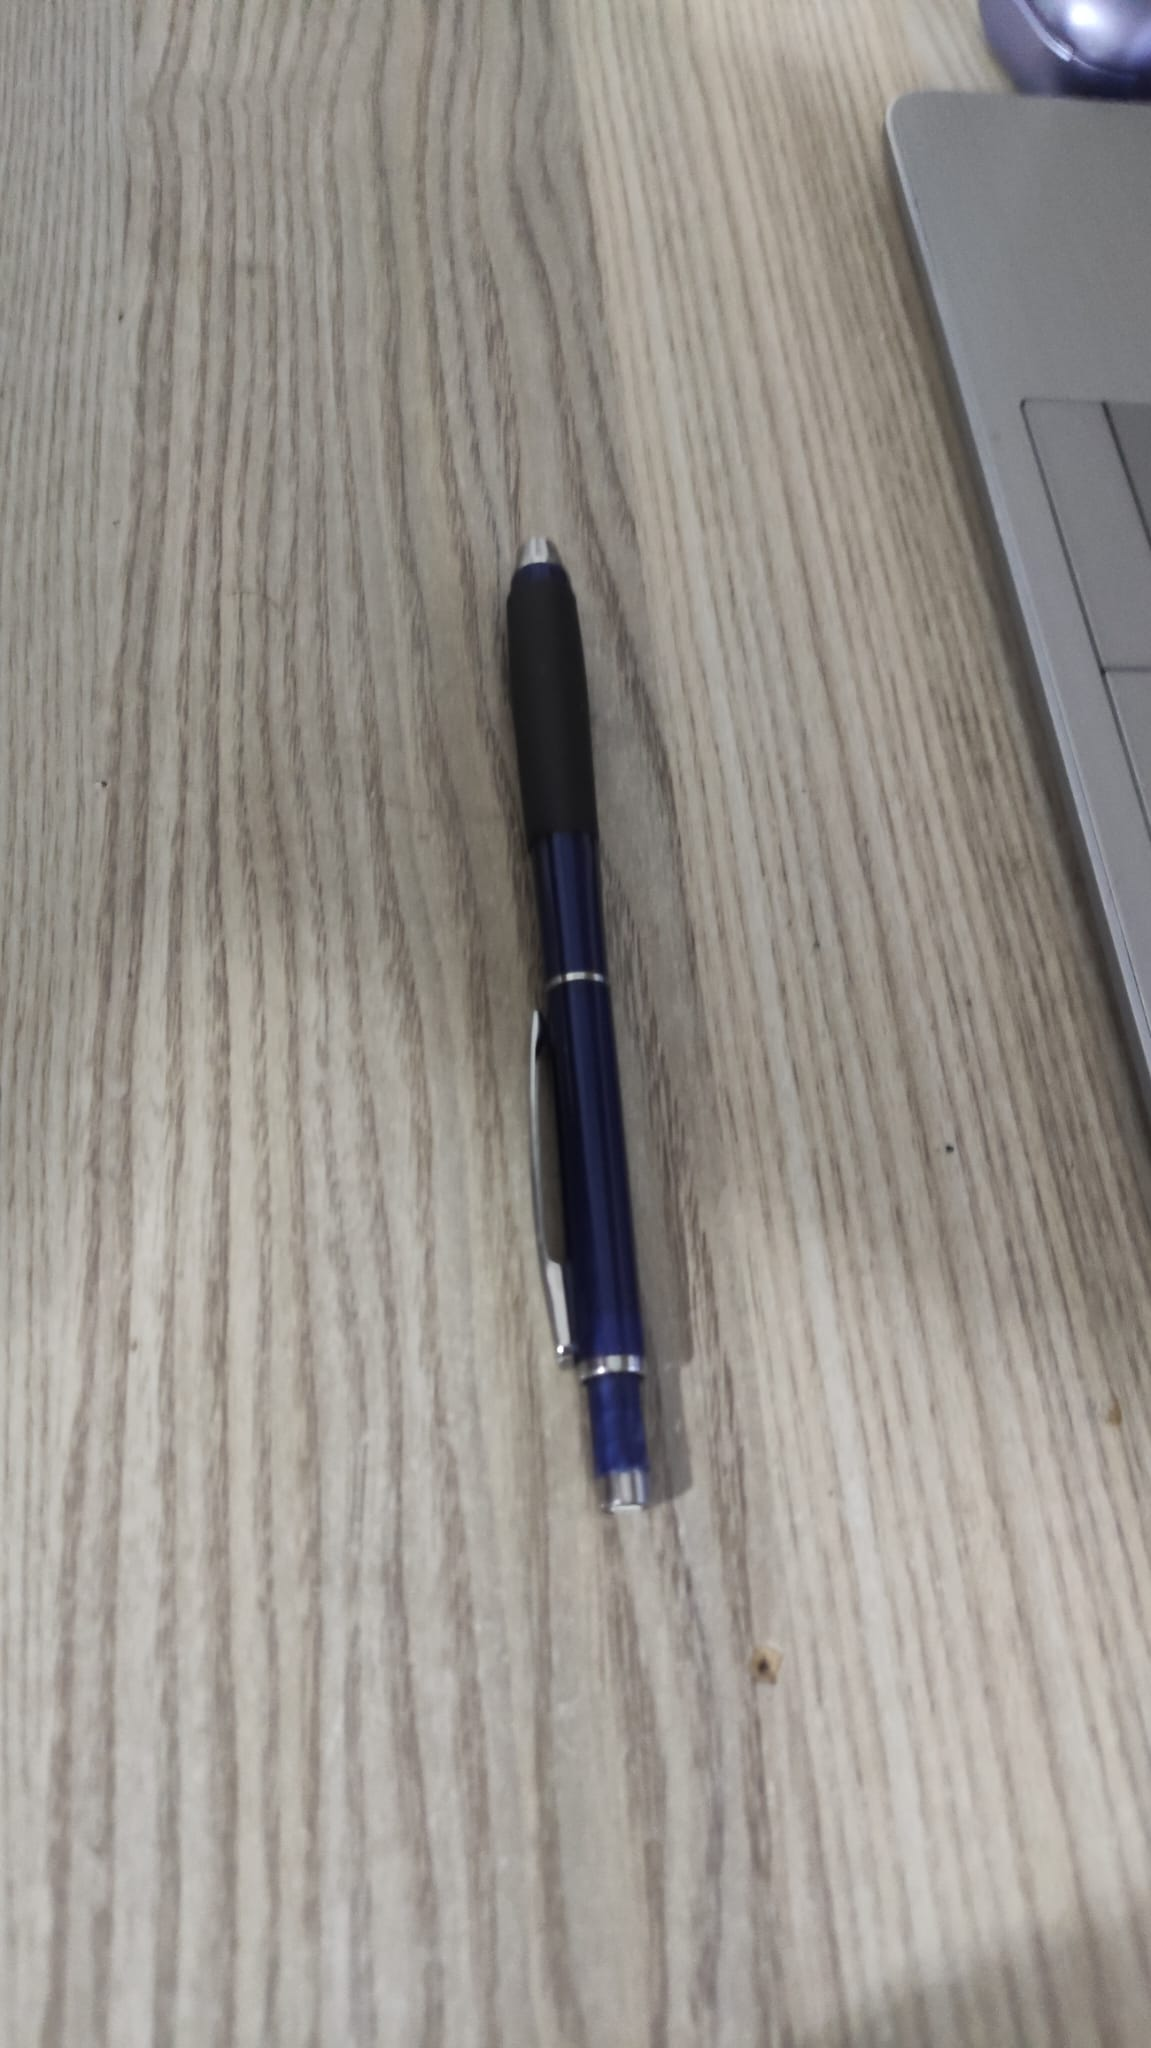kalem: (498, 537, 666, 1525)
